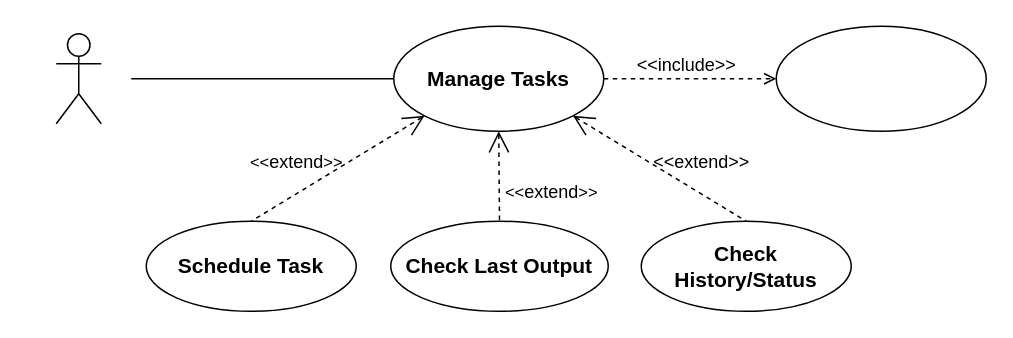
Some shapes in this 1013 by 338 pixel diagram are drawn without their labels. Here are the shapes that lost their labels. From the top down, the box of each, then its label:
(55, 32, 101, 124): IP Engineer
(775, 25, 986, 131): Authenticate
